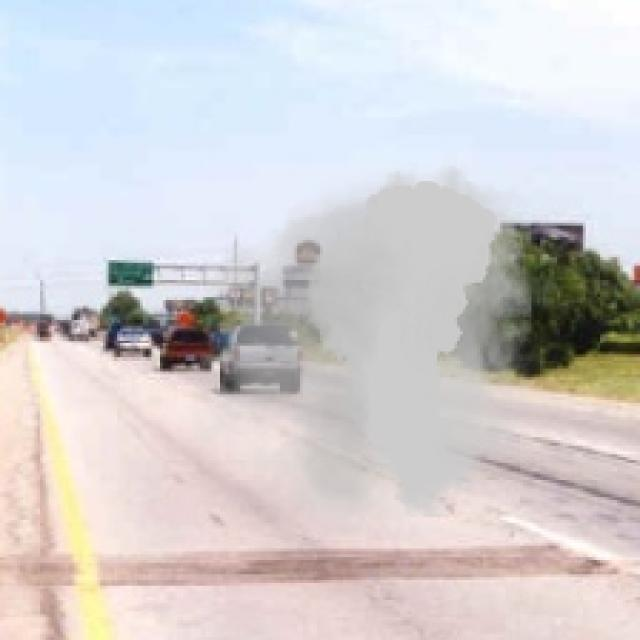smoke: (166, 154, 563, 543)
